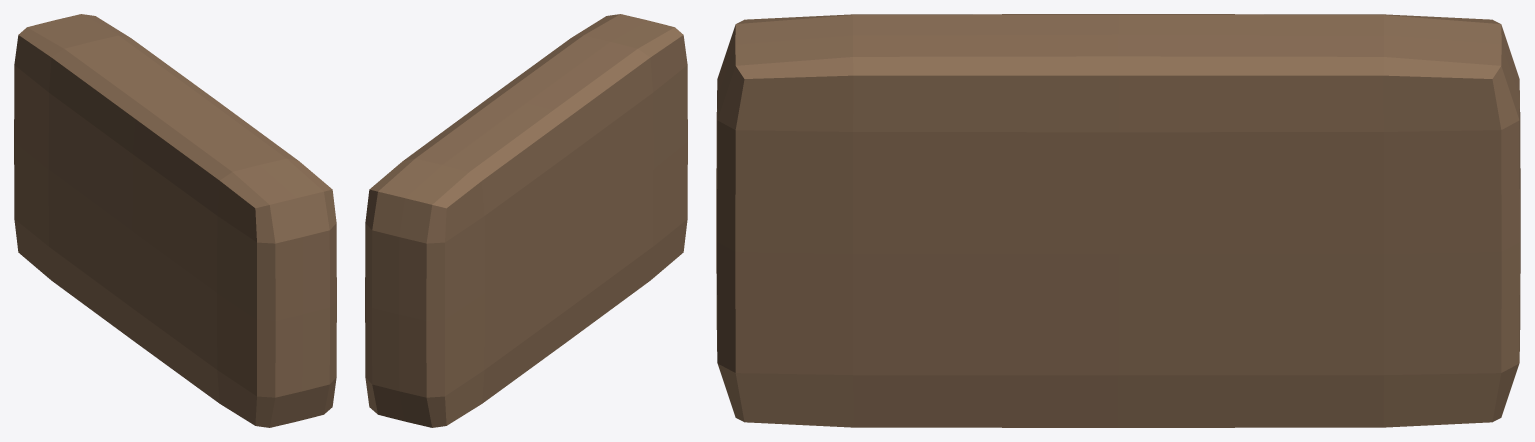
Rendered from big_sign.fbx.
3 views of the same model, side by side, from view 1: azimuth 30°, elevation 25°; view 2: azimuth 150°, elevation 25°; view 3: azimuth 270°, elevation 25° (orthographic). The views are drawn at different scales.
Visible parts, largest first — view 1: Cube; view 2: Cube; view 3: Cube.
Boxes of the visible parts, left/top/right/bottom form: Cube: left=14, top=14, right=336, bottom=427; Cube: left=365, top=14, right=687, bottom=427; Cube: left=716, top=14, right=1520, bottom=427.
Size of the model in its own units: 258 by 675 by 1321.
